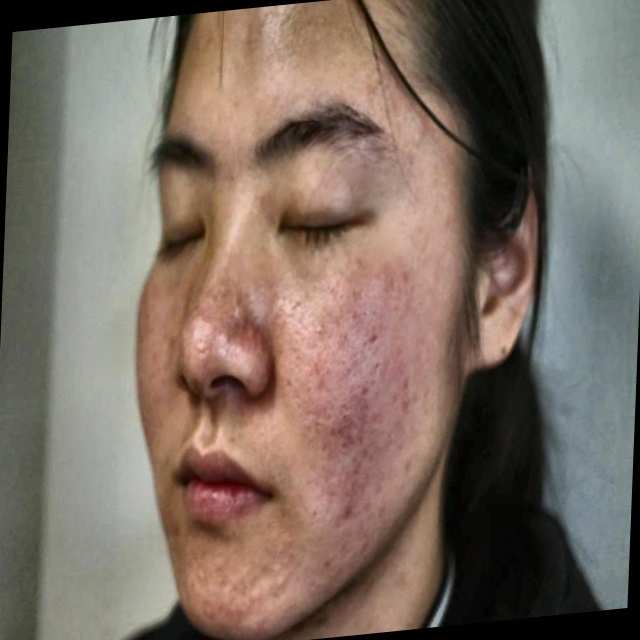comedone: (230, 312, 262, 362), (411, 113, 431, 151)
